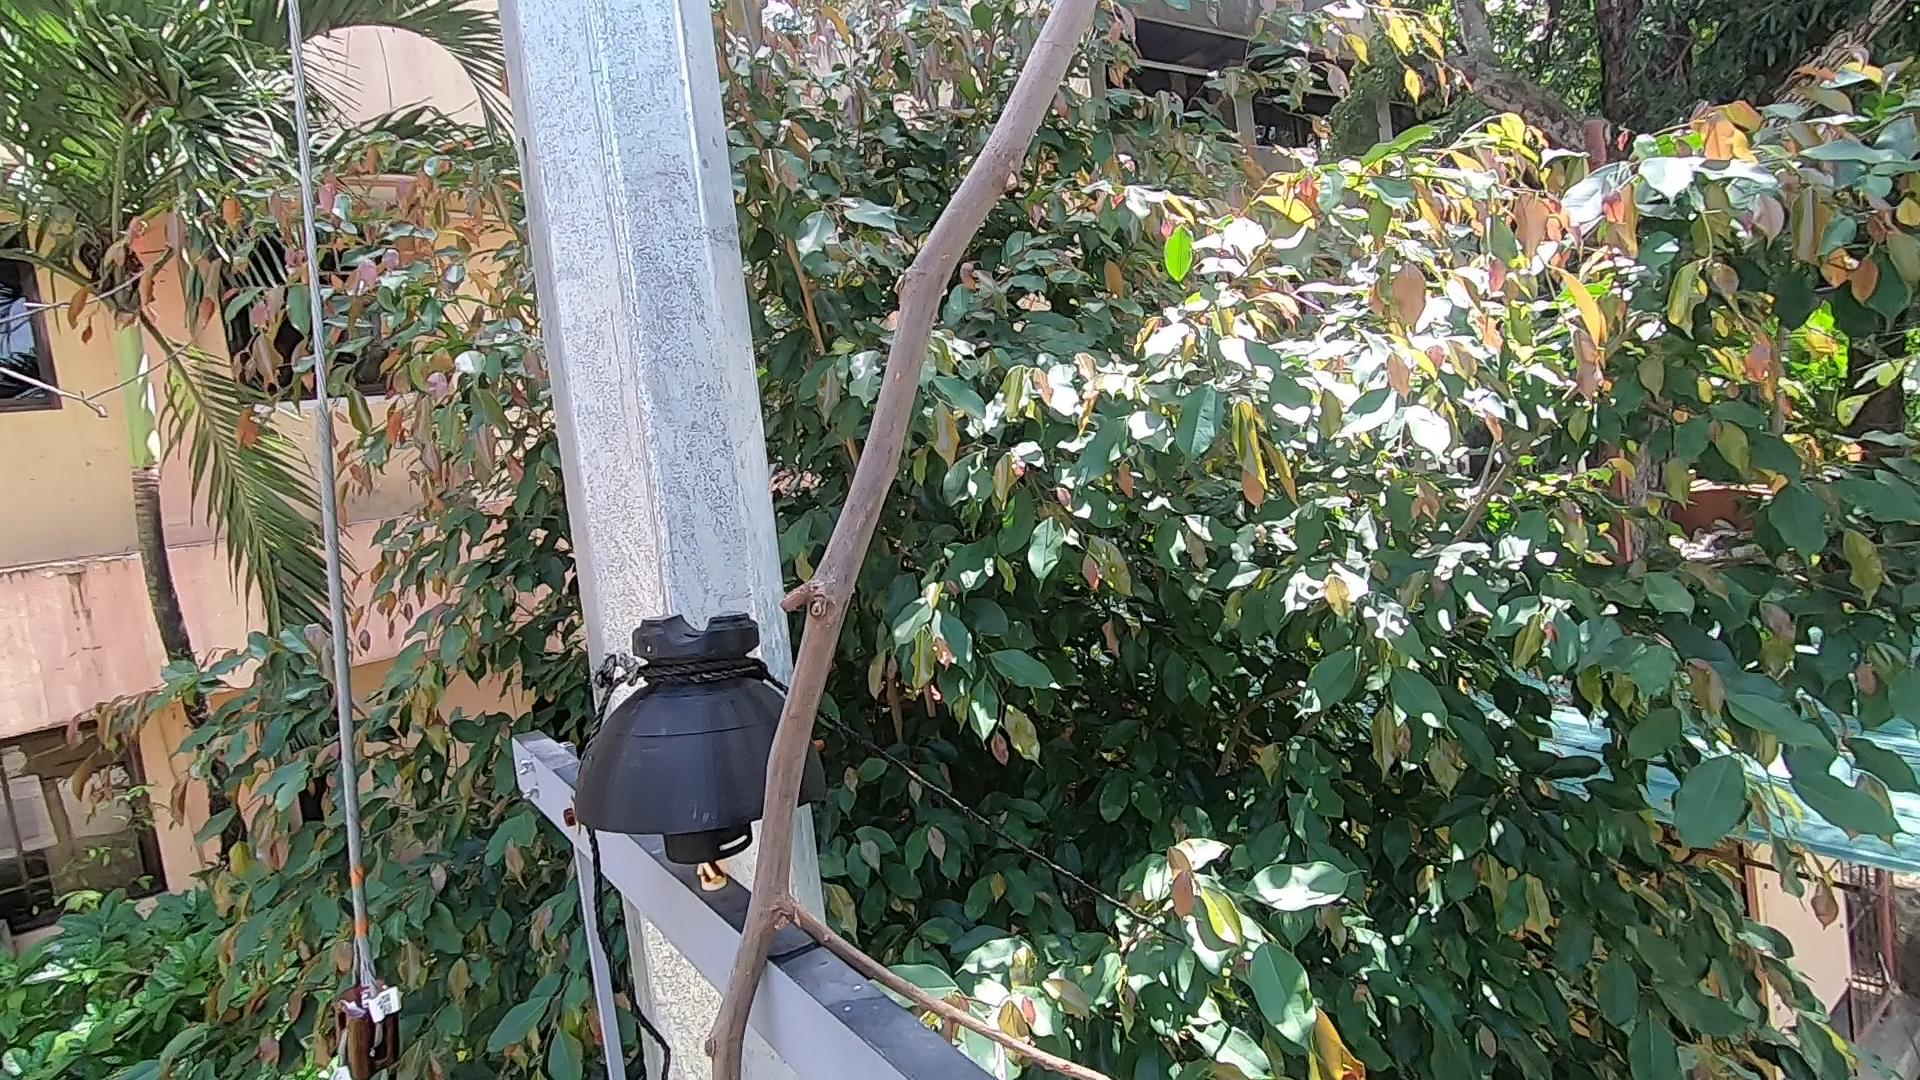tree branch: (702, 3, 1129, 1077)
